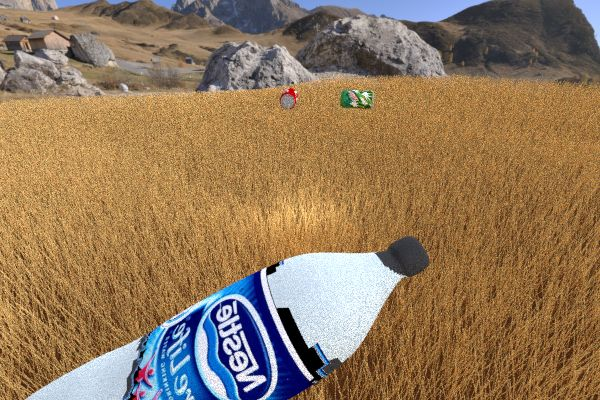Plastic Bottle: (0, 236, 429, 400), (339, 89, 374, 108), (279, 87, 297, 109)
